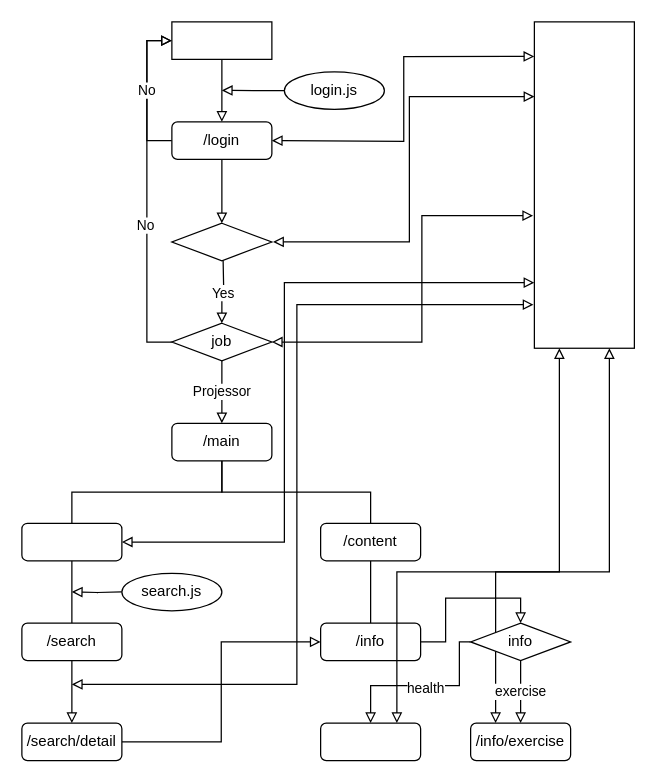
The diagram is 656 pixels wide and 783 high, and some of its shapes have lost their labels. The shapes that lost their labels are listed below. From the top down, each one's box as (x1, y1, x2, y2) in pixels, then its label:
(171, 21, 272, 59): User
(533, 21, 634, 348): Server
(171, 222, 272, 261): token
(21, 522, 122, 561): /profile
(319, 722, 421, 761): /info/health
